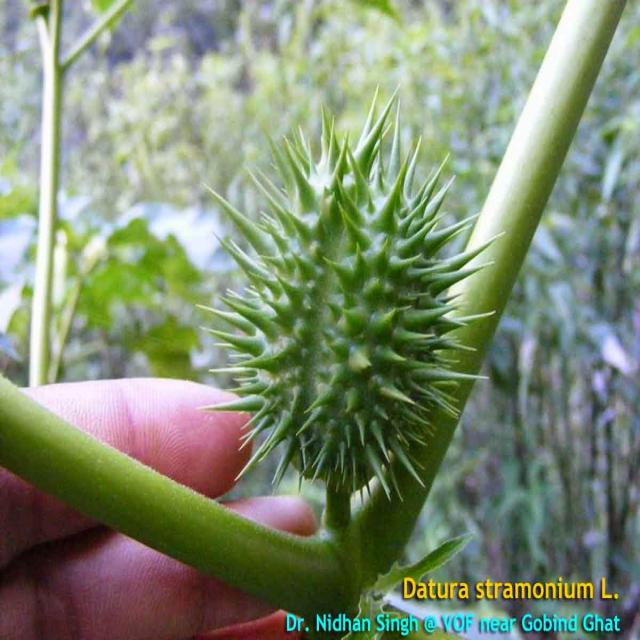Poisonous-Datura_Stramonium: (213, 92, 502, 570)
